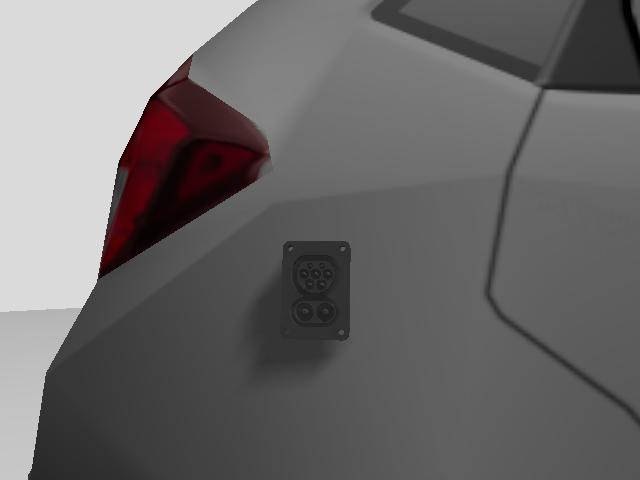EV-socket: (282, 241, 349, 338)
